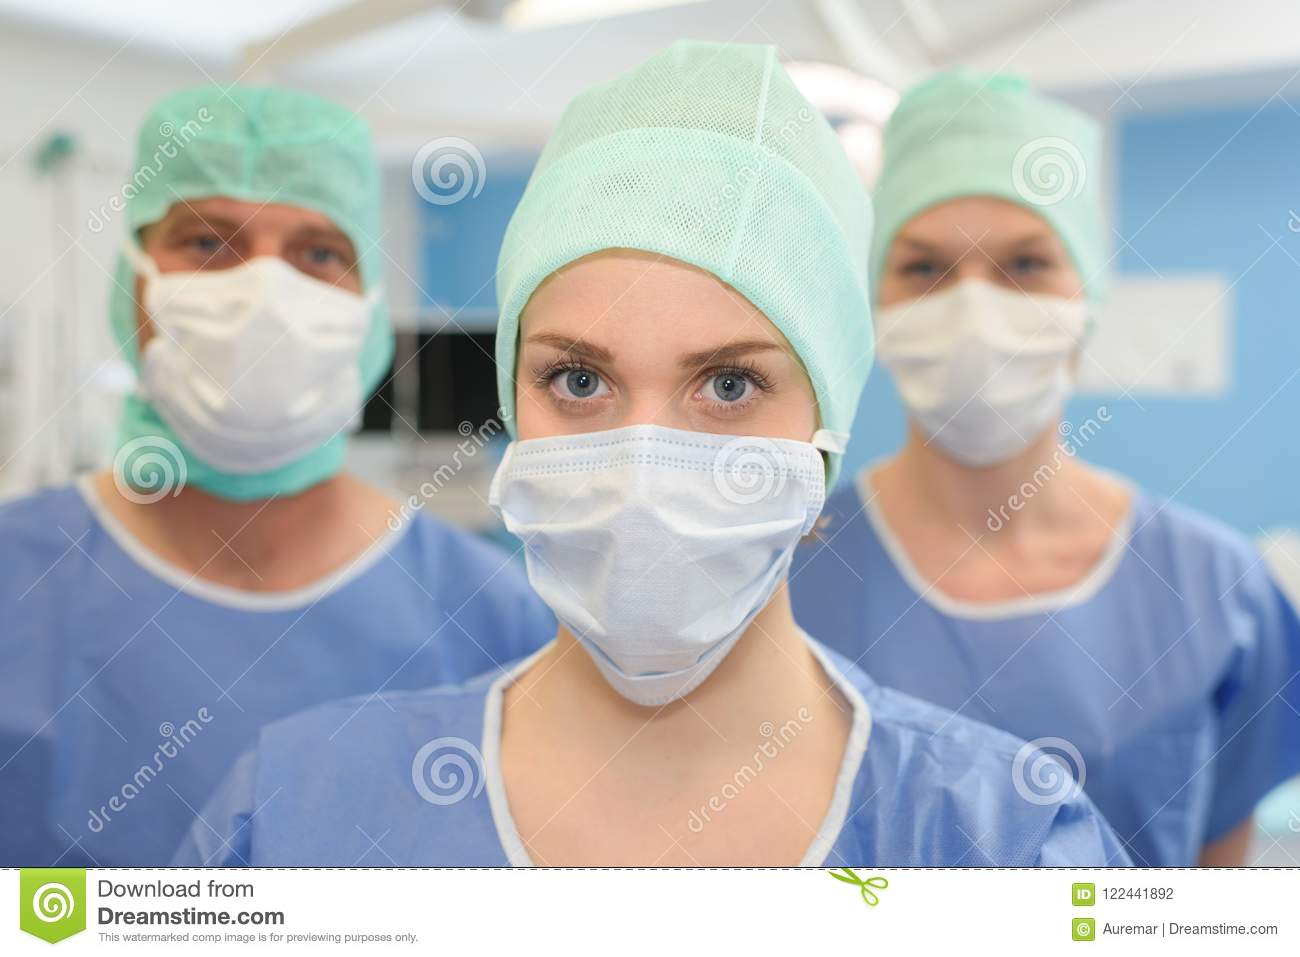mask: (494, 423, 814, 702), (153, 251, 376, 455), (867, 271, 1085, 454)
